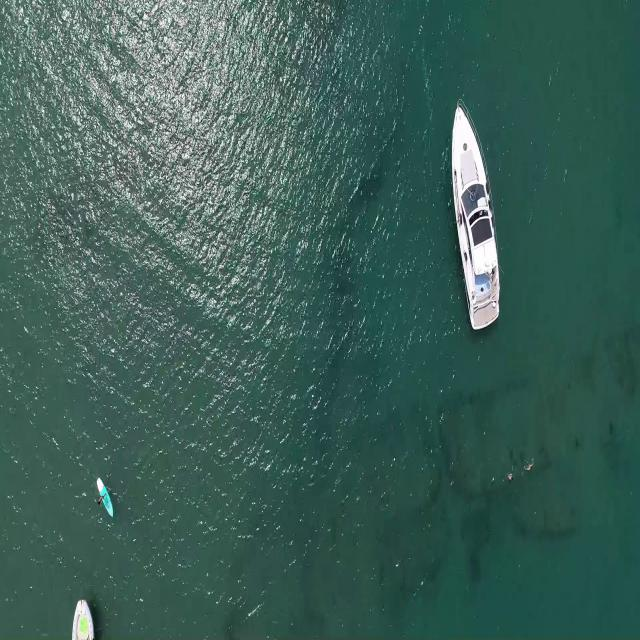boat: (448, 98, 503, 336)
person: (523, 458, 536, 472), (95, 491, 107, 506), (507, 471, 515, 481)
surfboard: (98, 474, 113, 525)
